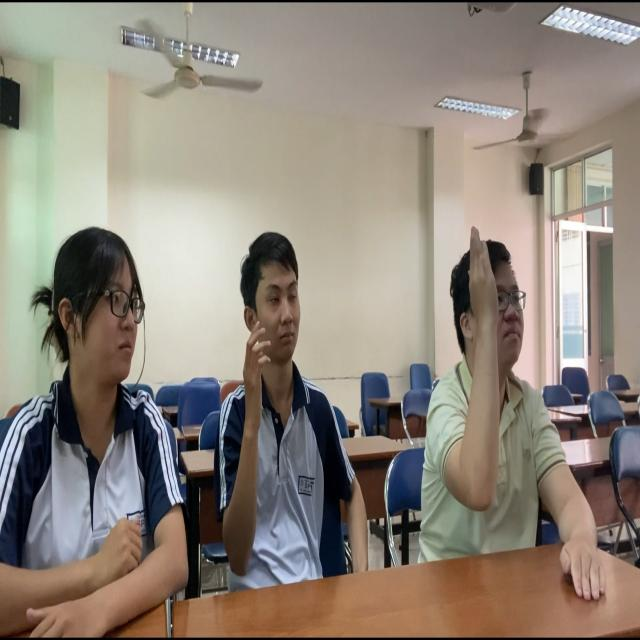raise_hand: (418, 225, 615, 600)
